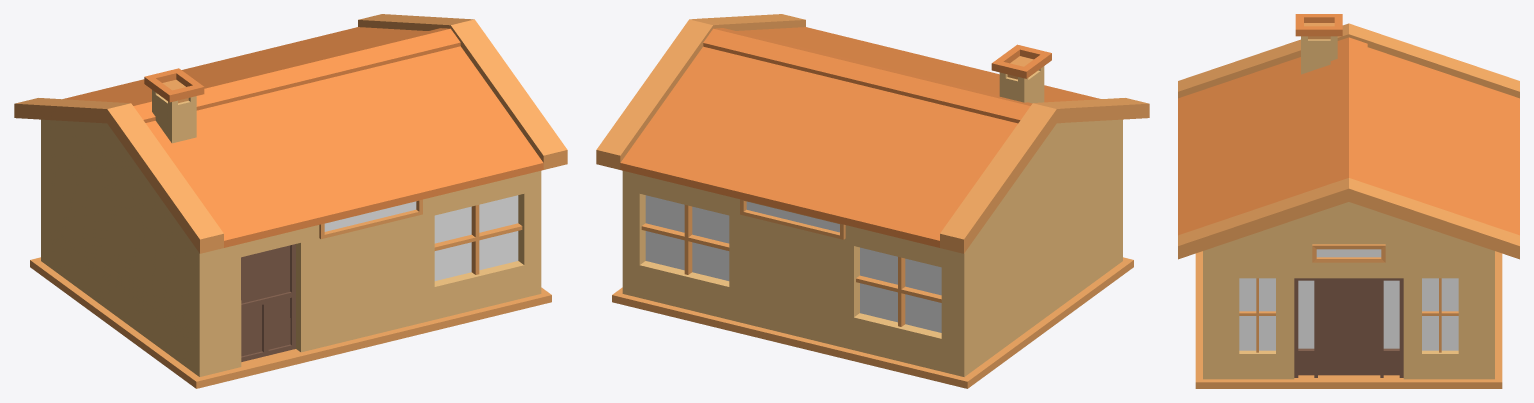
Rendered from building5.glb.
3 views of the same model, side by side, from view 1: azimuth 30°, elevation 25°; view 2: azimuth 150°, elevation 25°; view 3: azimuth 270°, elevation 25° (orthographic). The views are drawn at different scales.
Visible parts, largest first — view 1: Building_05; view 2: Building_05; view 3: Building_05.
Boxes of the visible parts, left/top/right/bottom form: Building_05: left=14, top=14, right=567, bottom=388; Building_05: left=596, top=14, right=1149, bottom=388; Building_05: left=1178, top=14, right=1519, bottom=388.
Size of the model in its own units: 3.21 by 2.06 by 2.81.
